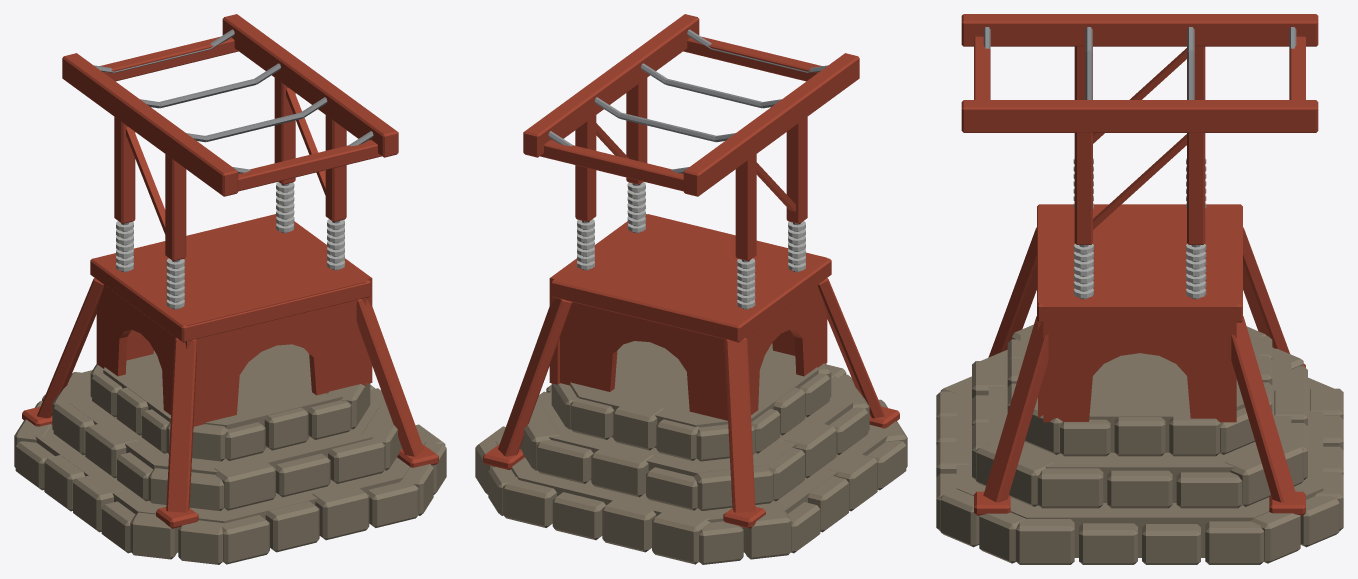
File: rail-support.glb
3 renders of one model, left to right at view 1: azimuth 30°, elevation 25°; view 2: azimuth 150°, elevation 25°; view 3: azimuth 270°, elevation 25°, orthographic. The views are drawn at different scales.
Visible parts, largest first — view 1: body; view 2: body; view 3: body.
Part boxes in pixels (x1=…): body: x1=14, y1=14, x2=446, y2=564; body: x1=475, y1=14, x2=907, y2=564; body: x1=936, y1=14, x2=1343, y2=564.
Bounding box in the file's own units: 4 × 4.55 × 4.
